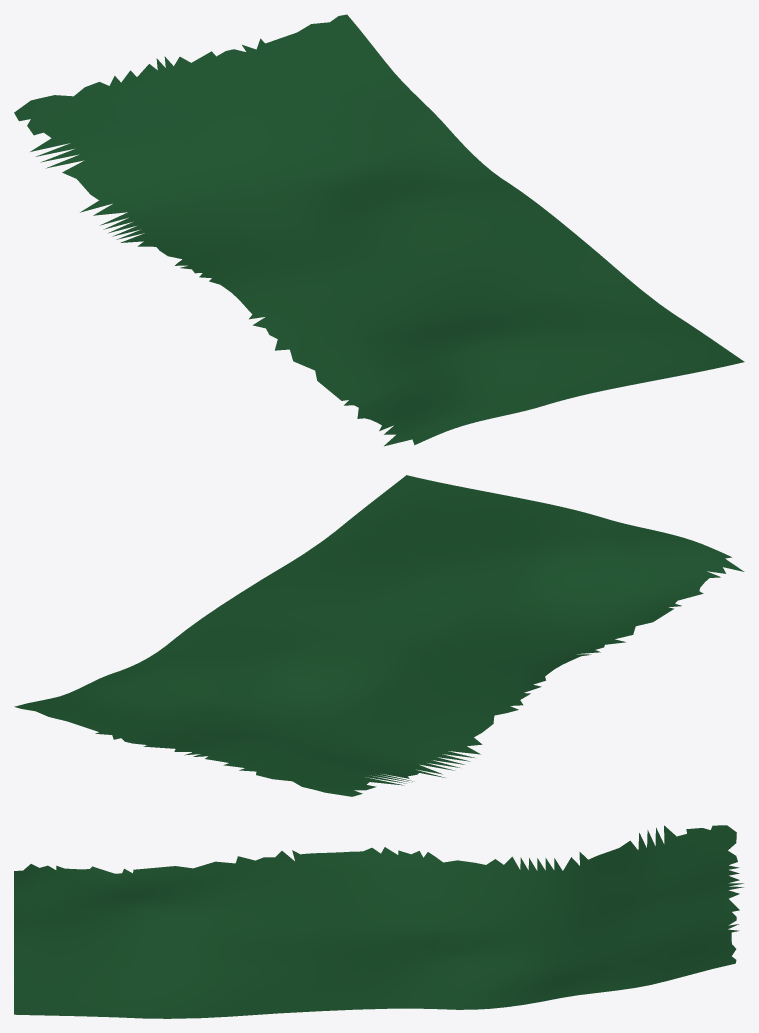
File: payo_land_xm5_y2.glb
3 views of the same model, one above another, from view 1: azimuth 30°, elevation 25°; view 2: azimuth 150°, elevation 25°; view 3: azimuth 270°, elevation 25° (orthographic). The views are drawn at different scales.
Parts seen in each view (by area): view 1: payo_land_xm5_y2; view 2: payo_land_xm5_y2; view 3: payo_land_xm5_y2.
Part boxes in pixels (x1,y1,x2,y2): payo_land_xm5_y2: (14, 14, 744, 446); payo_land_xm5_y2: (14, 475, 744, 796); payo_land_xm5_y2: (14, 825, 743, 1018).
Size of the model in its own units: 133 by 22.25 by 260.
